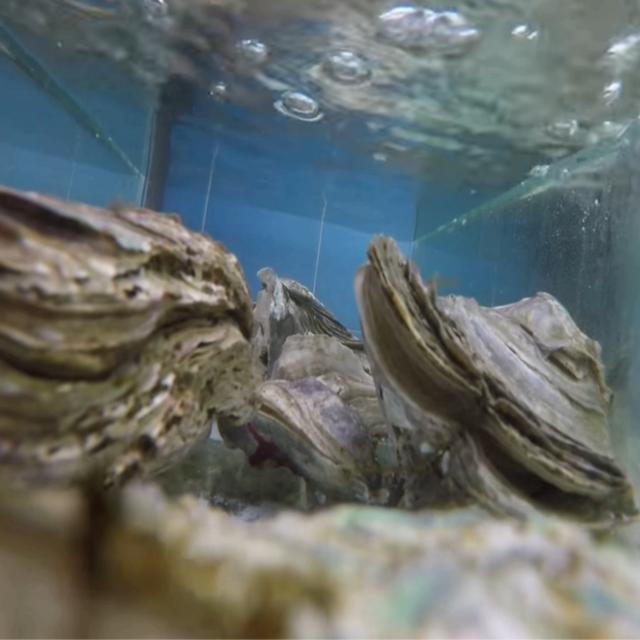Oyster-Closed: (0, 186, 254, 504), (250, 334, 404, 507)
Oyster-Indeterminate: (0, 482, 640, 640), (252, 266, 368, 383)
Oyster-Open: (355, 234, 640, 536)
